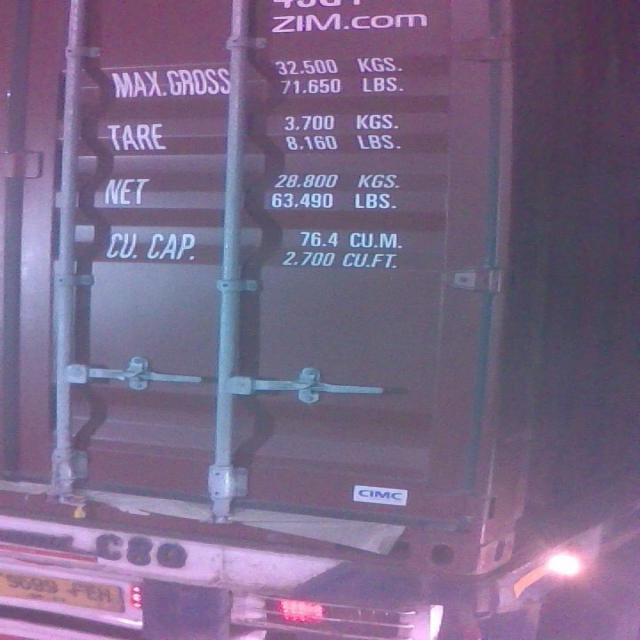seal: (57, 491, 97, 528)
